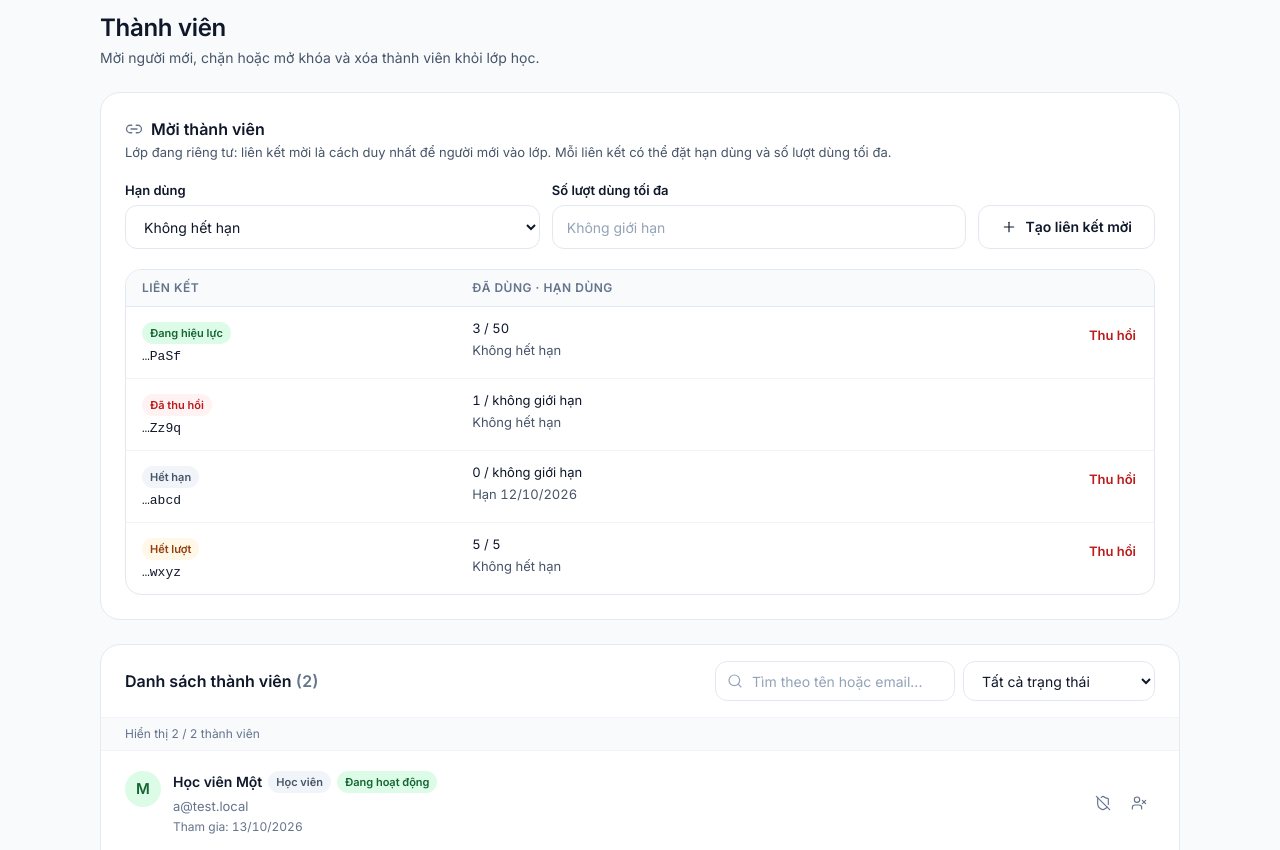
Test: StudioMembers - create an invite › rejects a use limit outside 1..100000 before any request
The image size is (1280, 850).
Expected: the table is shown, left=126, top=270, right=1154, bottom=594
Type "0" into the number field labelled "Số lượt dùng tối đa" at (759, 227), box left=552, top=205, right=966, bottom=249
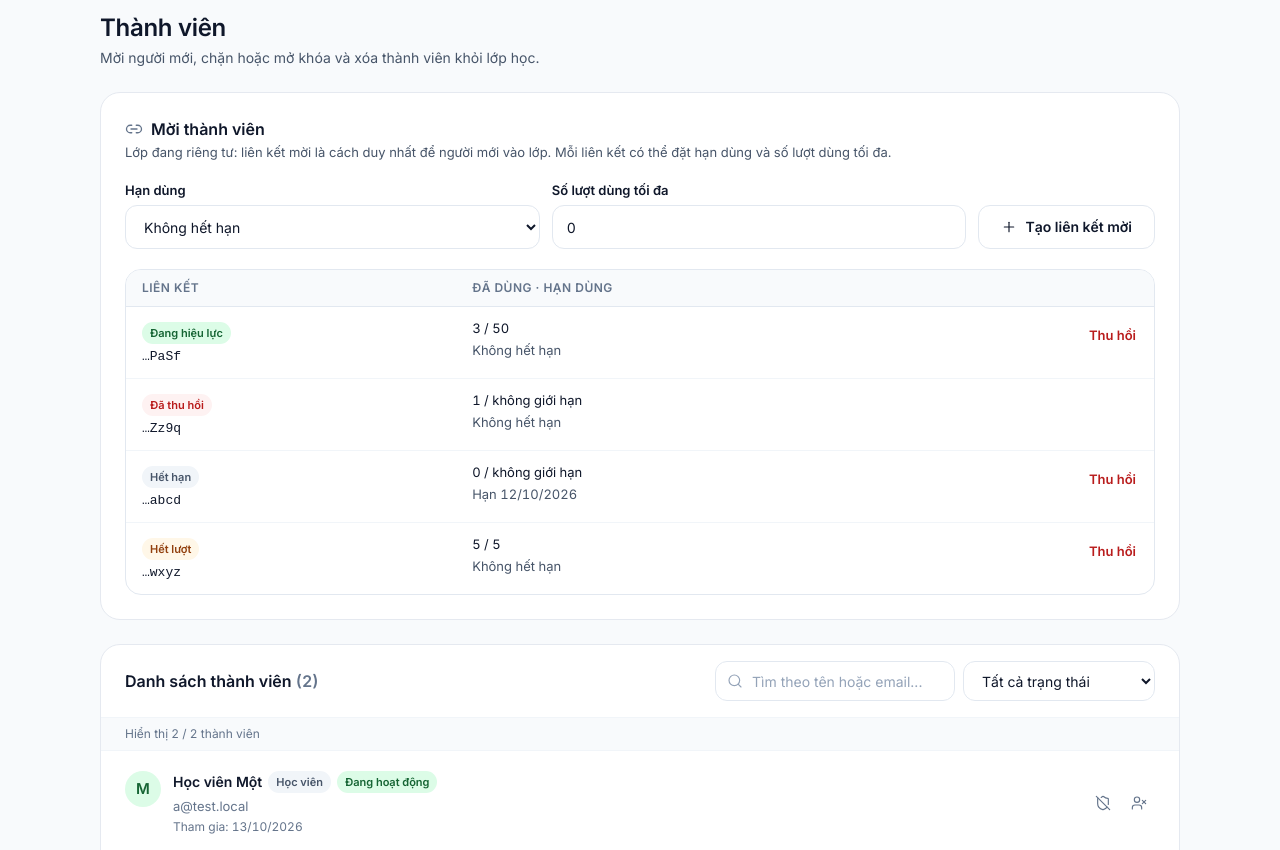
Click the button "Tạo liên kết mời" at (1067, 227), box left=978, top=205, right=1155, bottom=249
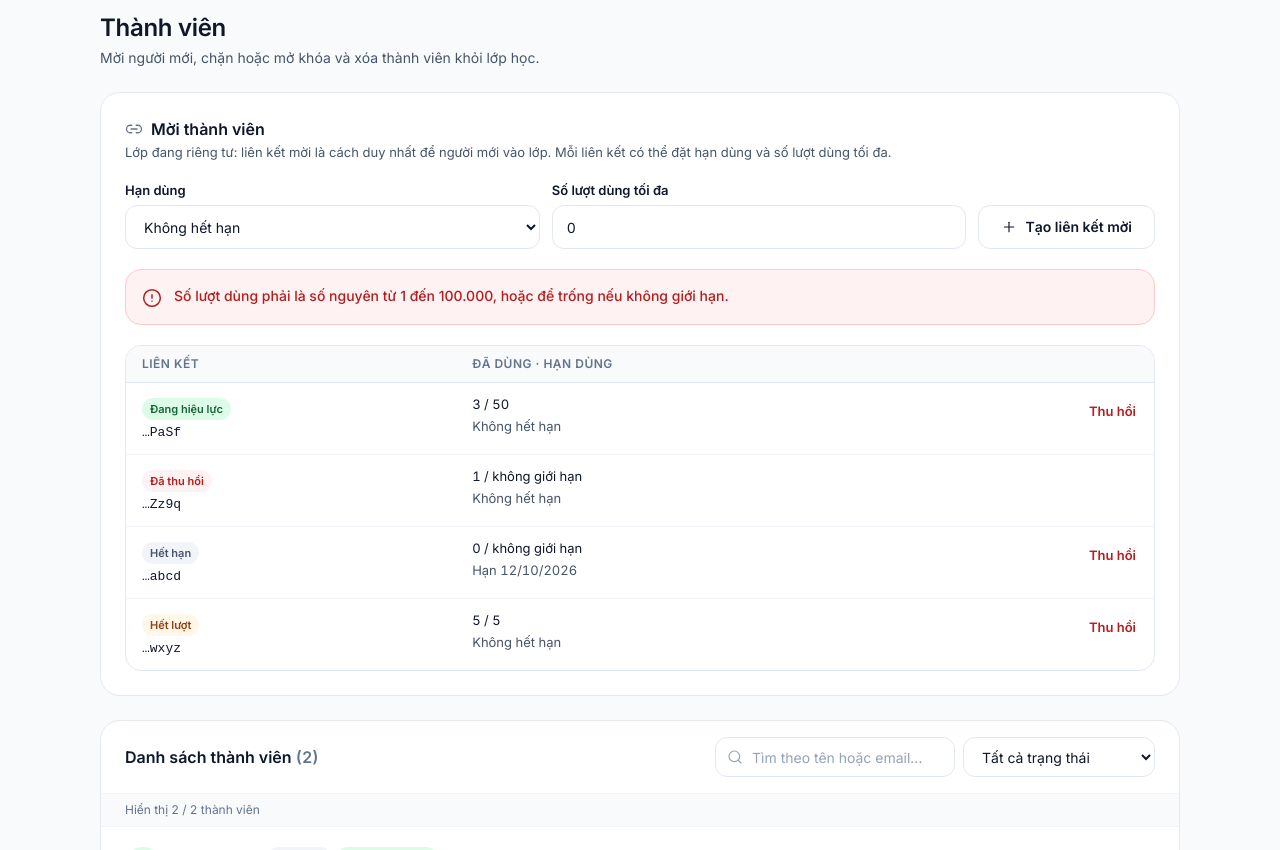
Now the text "Số lượt dùng phải là số nguyên từ 1 đến 100.000" is shown, box left=174, top=287, right=729, bottom=304
